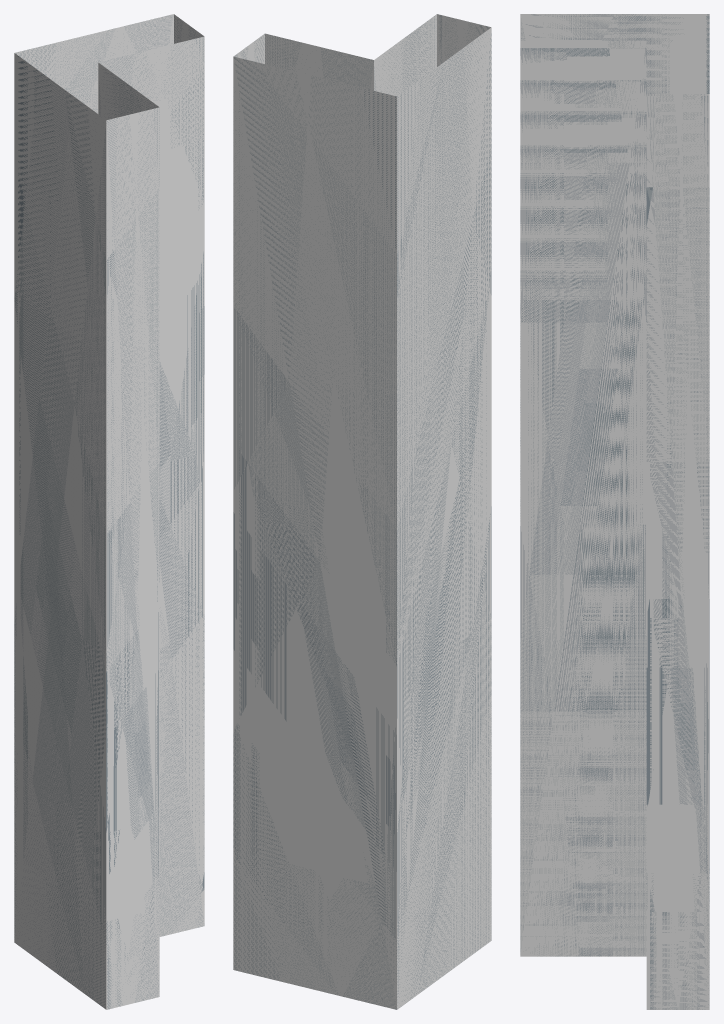
Rendered from Corner_ds_050x050x025x4.dae.
3 renders of one model, left to right at view 1: azimuth 30°, elevation 25°; view 2: azimuth 150°, elevation 25°; view 3: azimuth 270°, elevation 25°, orthographic. The views are drawn at different scales.
Parts seen in each view (by area): view 1: group_0; view 2: group_0; view 3: group_0.
Boxes of the visible parts, x1,y1,x2,y2 form: group_0: (14,14,204,1009); group_0: (233,14,491,1009); group_0: (520,14,709,1009).
Size of the model in its own units: 29.53 by 29.53 by 157.
